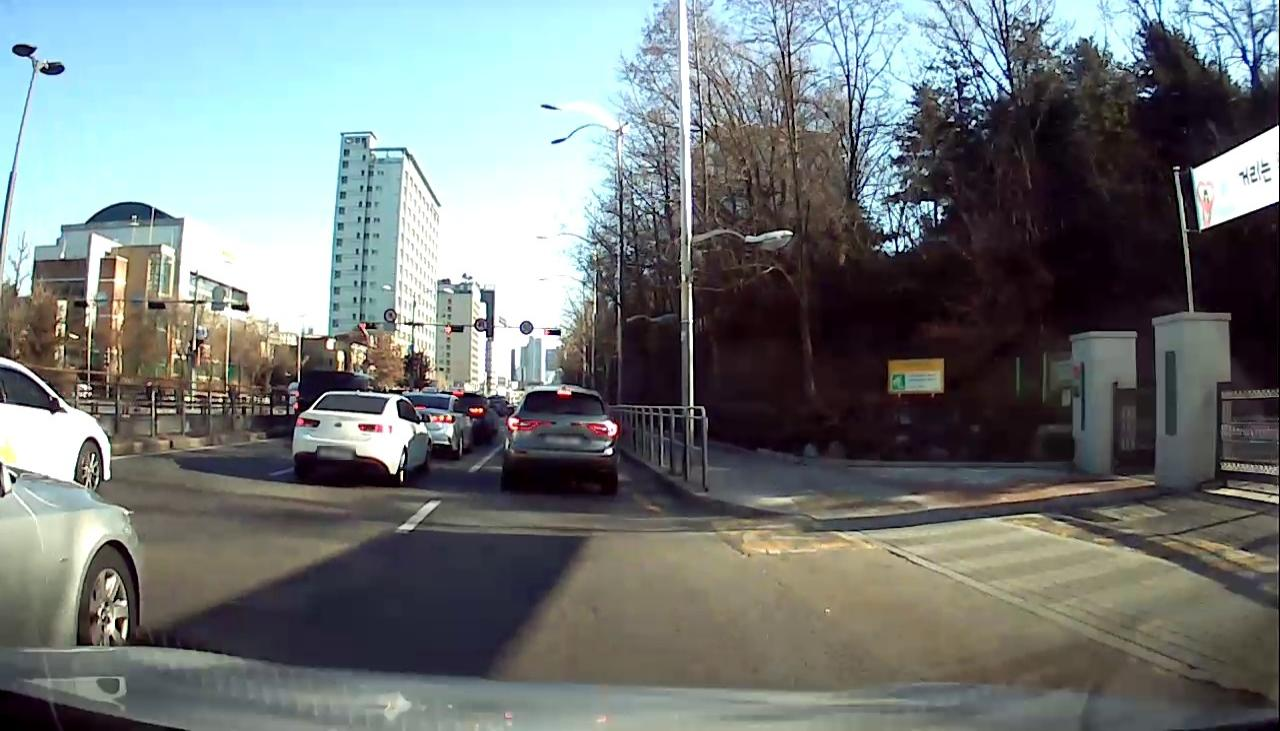Red Light: (359, 321, 367, 330), (445, 326, 452, 334), (544, 328, 550, 335)
